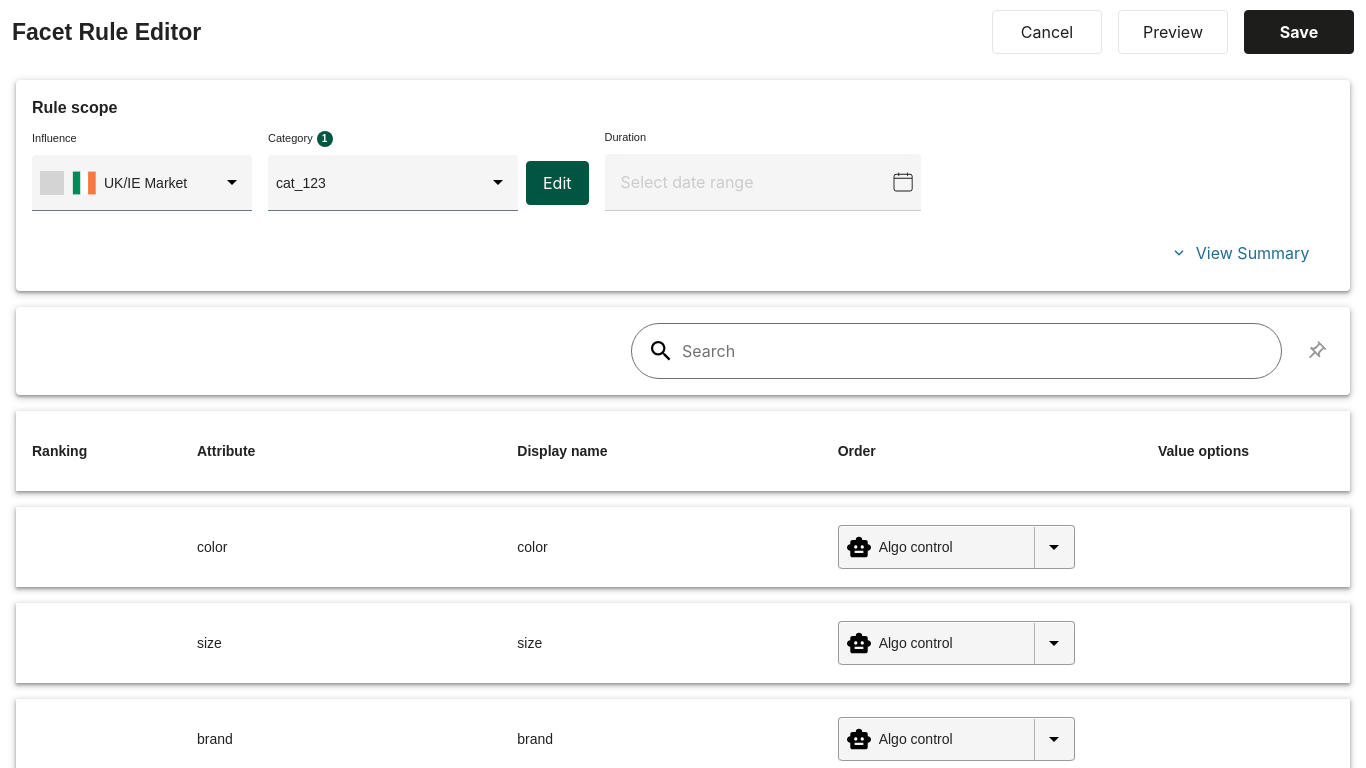
Test case: FacetsList › should change a facet display type
The width and height of the screenshot is (1366, 768).
Expected: the element with test id "Row showing color as algoControl" is shown, [16,507,1350,587]
Click the 1st button with test id "button to open facet order dropdown". click: (956, 548)
box: [839,526,1074,568]
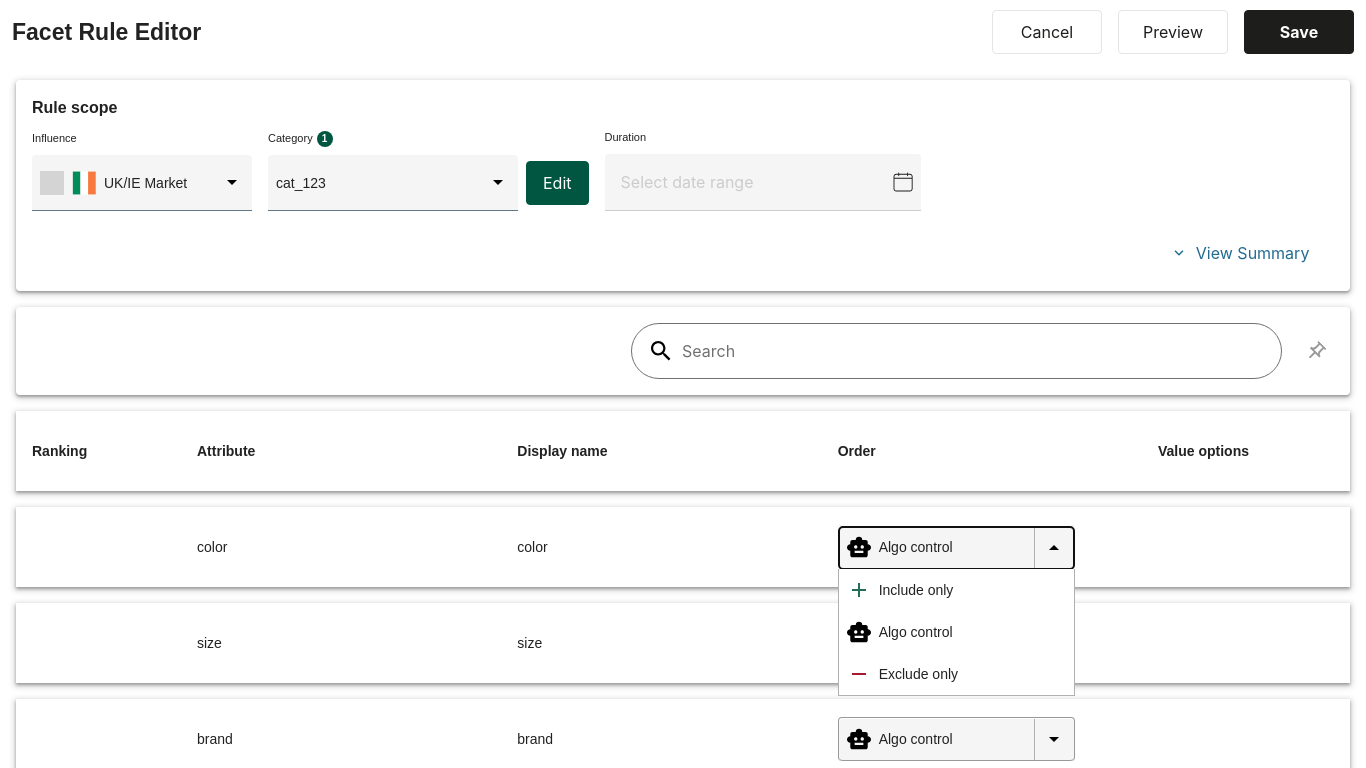
Click the menu item "Exclude only". click: (956, 674)
box: [839,653,1074,695]
(page scrolled)
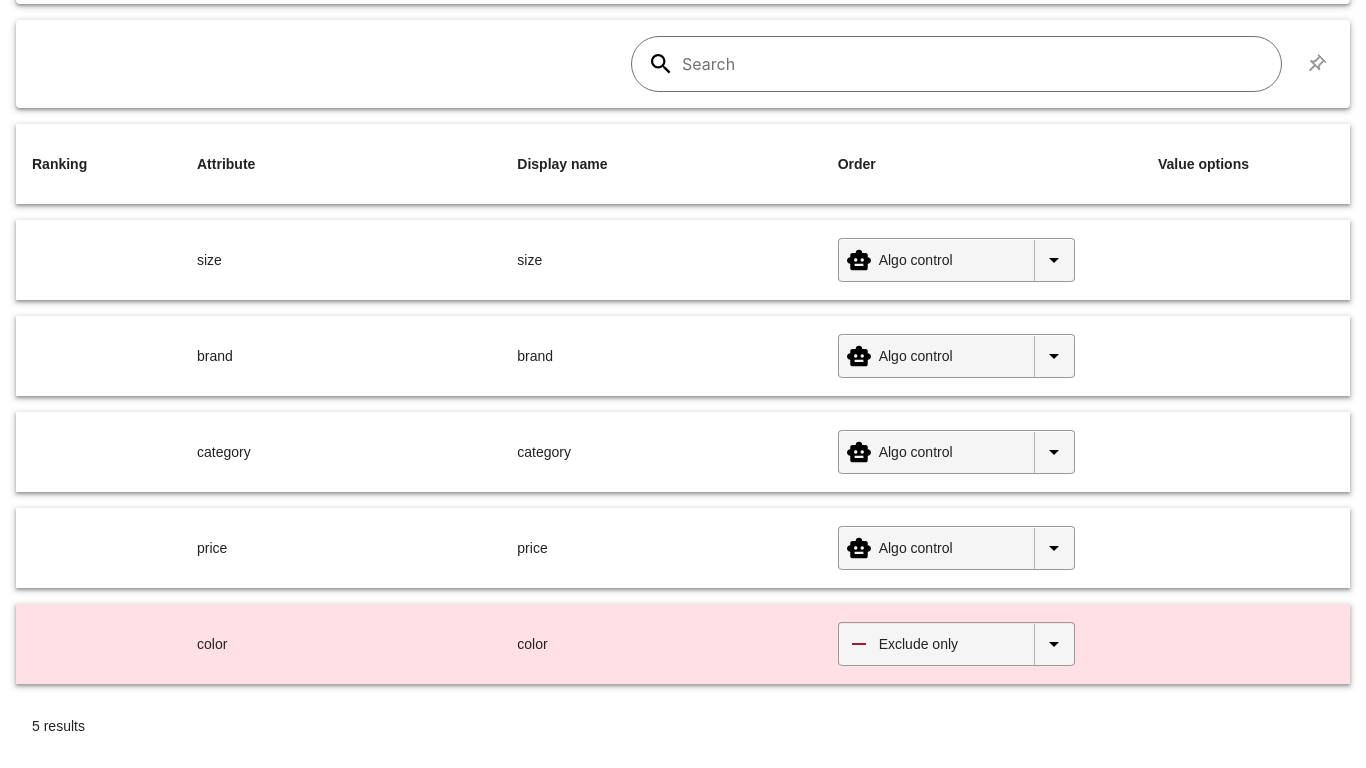
Result: the element with test id "Row showing color as excluded" is shown at [16,604,1350,684]
